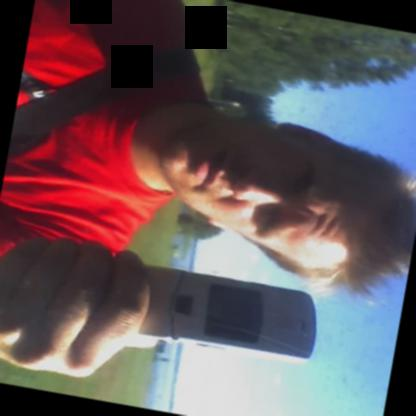handbag: (6, 49, 197, 163)
